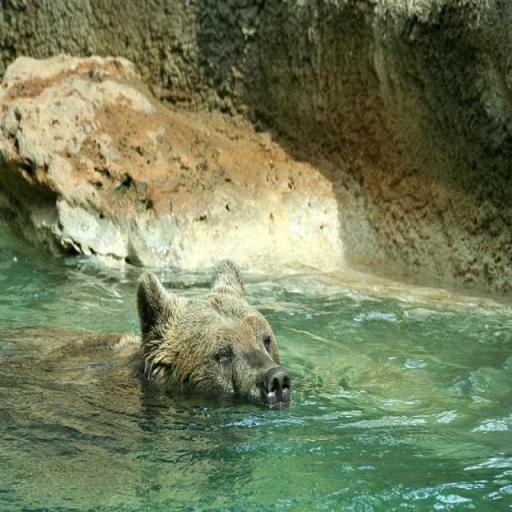Bear: (0, 257, 291, 409)
